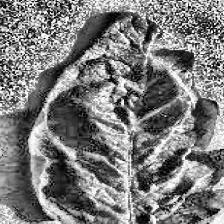spider mites: (18, 12, 224, 224)
